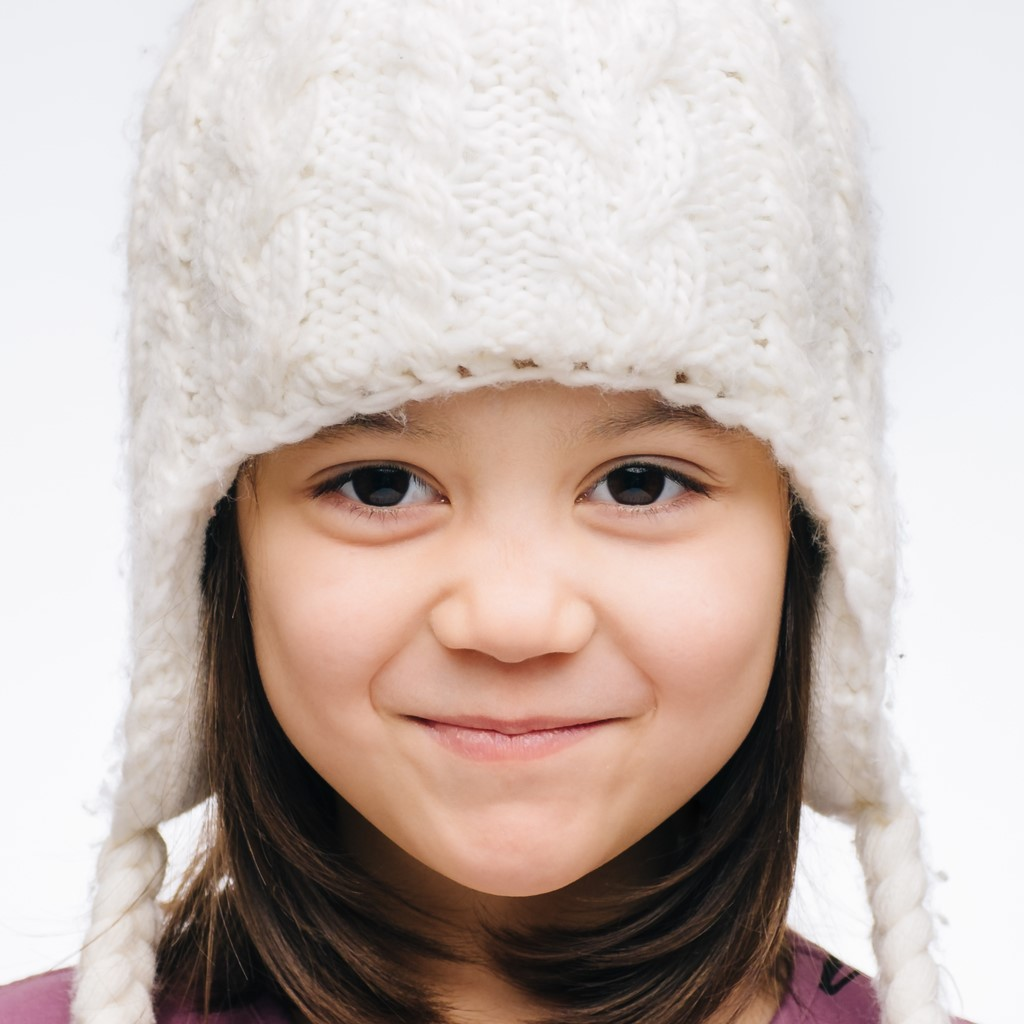sin_mascara: (229, 254, 817, 874)
